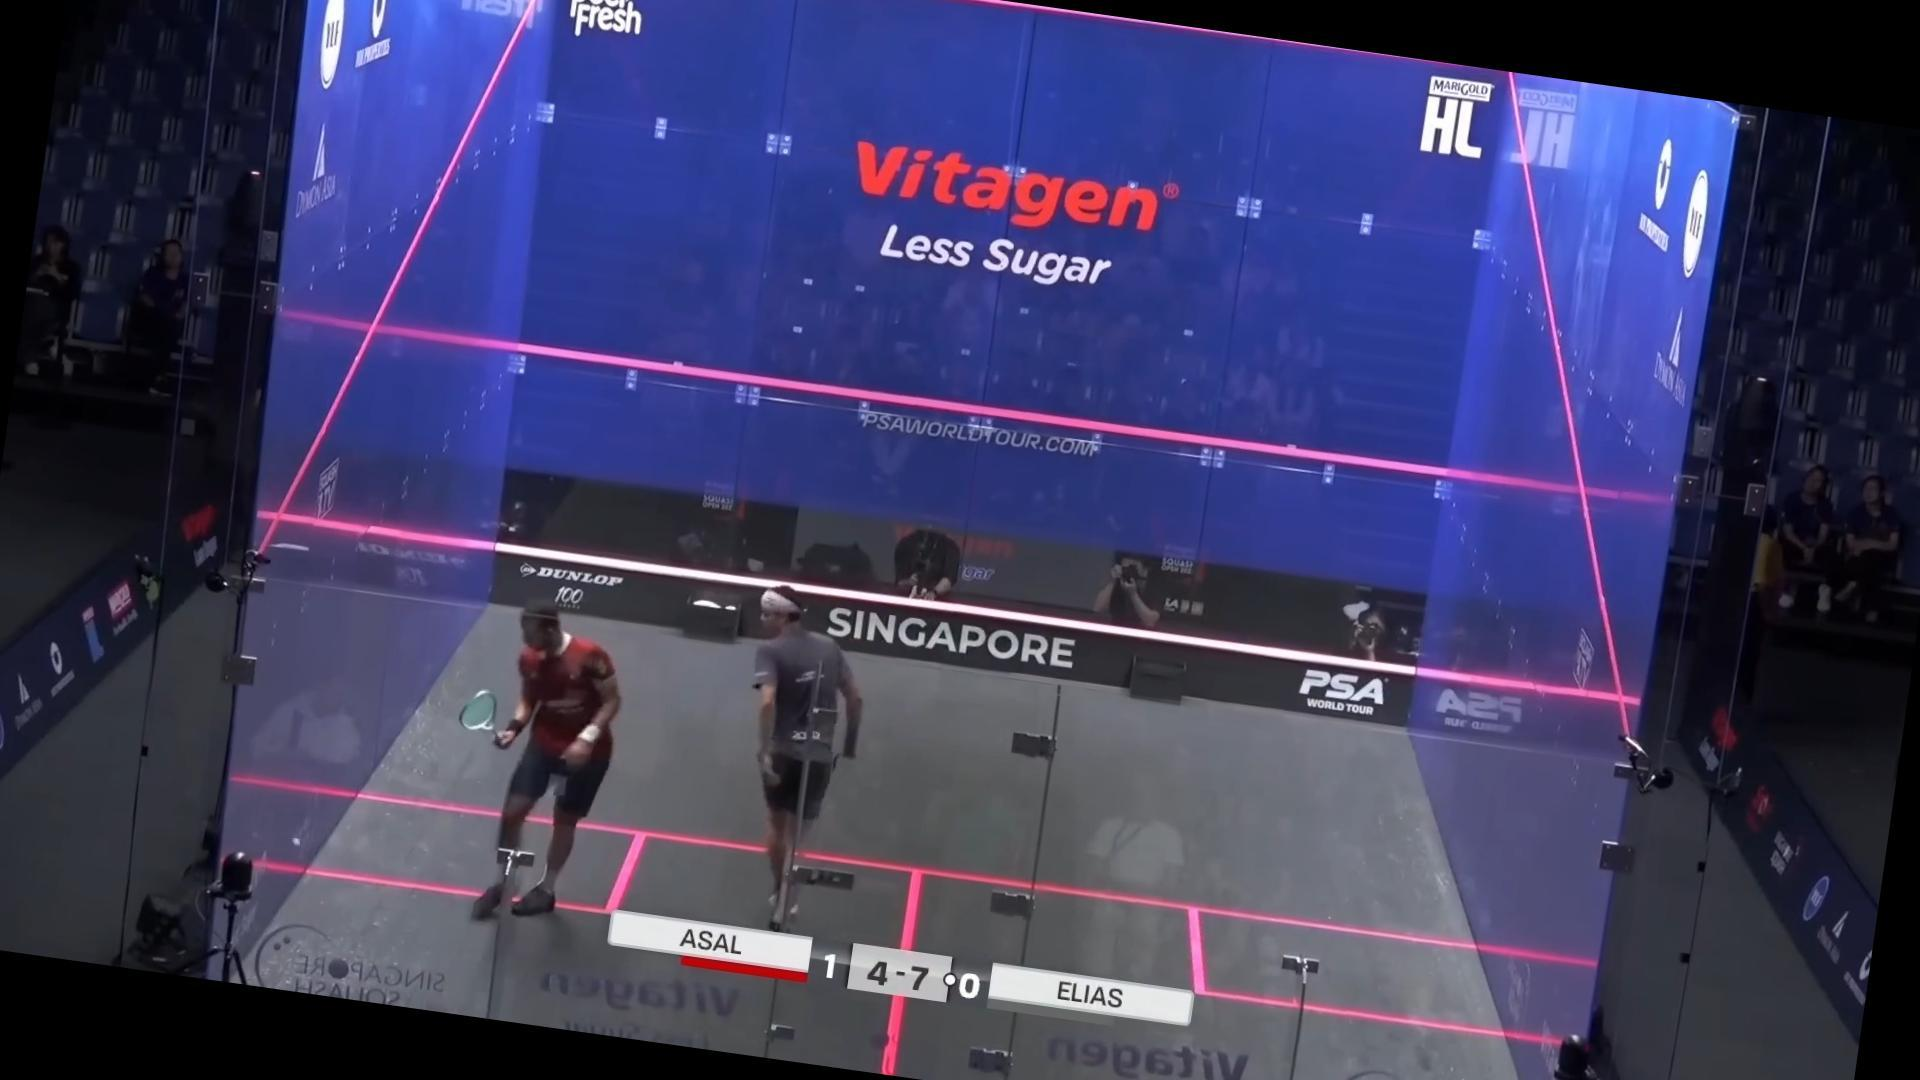Squash-Ball: (282, 828, 313, 860)
